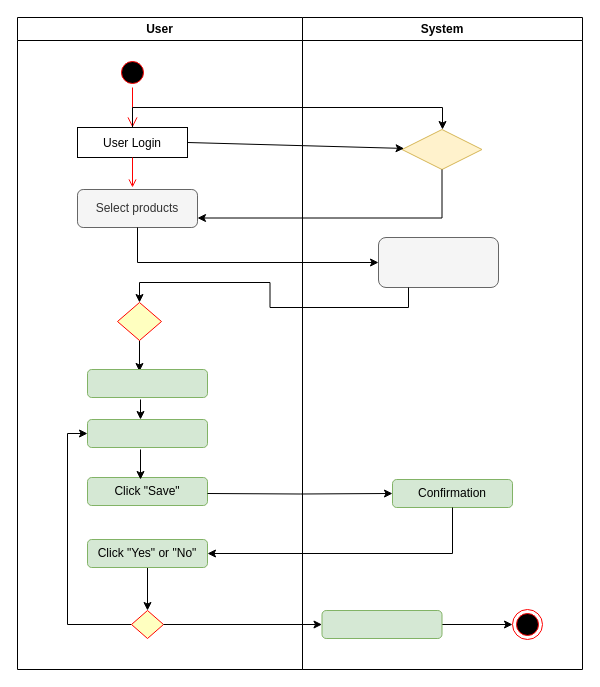
This 600x687 diagram has some shape labels left out. The centre of each missing label's shape, as x and y in pixels:
Click "Add product" button: (147,383)
Display products at the screen: (438,262)
Enter product specifications: (147,433)
Update database: (381,624)
